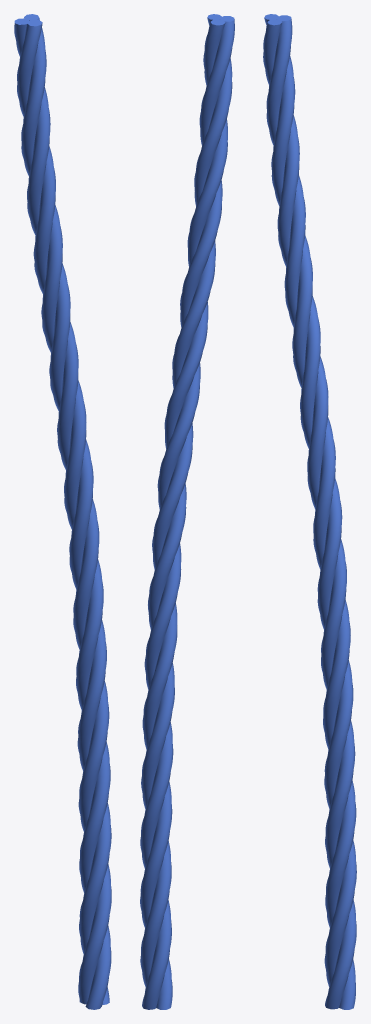
File: cable.fbx
3 views of the same model, side by side, from view 1: azimuth 30°, elevation 25°; view 2: azimuth 210°, elevation 25°; view 3: azimuth 330°, elevation 25° (orthographic). The views are drawn at different scales.
Parts seen in each view (by area): view 1: sweep1; view 2: sweep1; view 3: sweep1.
Part boxes in pixels (<box>): sweep1: <box>14,14,111,1009</box>; sweep1: <box>140,14,234,1009</box>; sweep1: <box>263,14,356,1009</box>.
Bounding box in the file's own units: 1.92 × 19.62 × 0.5833.
